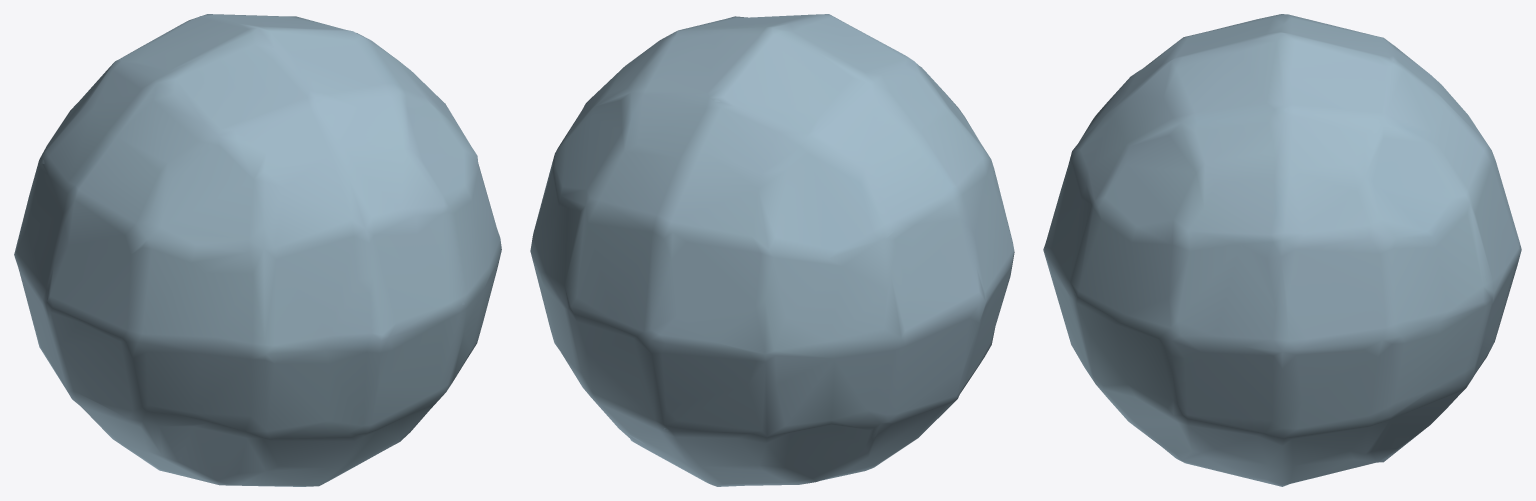
The model's file is gen3d-crystal-ball-lod0.glb.
The picture shows the model from 3 angles, left to right: view 1: azimuth 30°, elevation 25°; view 2: azimuth 150°, elevation 25°; view 3: azimuth 270°, elevation 25°; orthographic projection. The views are drawn at different scales.
Visible parts, largest first — view 1: part_0; view 2: part_0; view 3: part_0.
Part boxes in pixels (<box>): part_0: <box>14,14,501,486</box>; part_0: <box>530,14,1014,486</box>; part_0: <box>1043,14,1521,486</box>.
Bounding box in the file's own units: 0.9979 × 0.9974 × 1.
